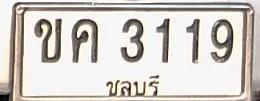1: (155, 17, 170, 63), (185, 18, 200, 64)
3: (120, 18, 144, 62)
9: (210, 18, 233, 62)
A02: (34, 18, 62, 62)
A04: (71, 18, 99, 62)
CBI: (98, 72, 163, 97)
